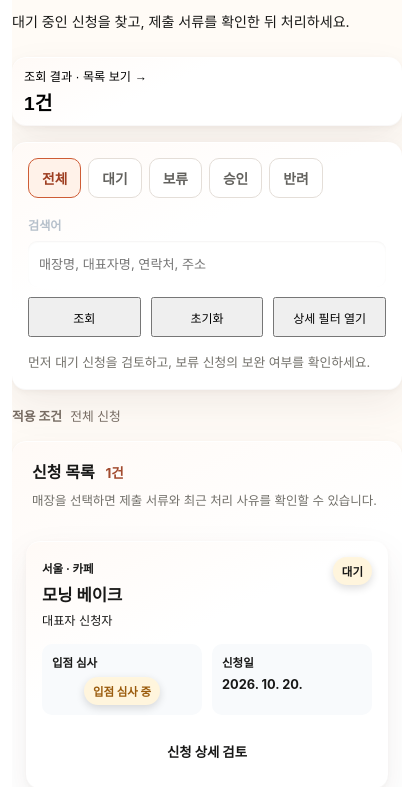
ignores a stale filter failure while keeping the newest request loading
Click the button "보류": (175, 178) x1=149 y1=158 x2=202 y2=198
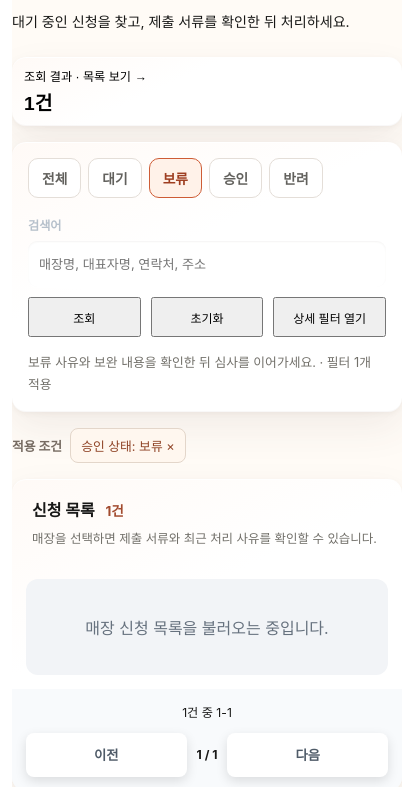
Click the button "승인": (236, 178) x1=209 y1=158 x2=262 y2=198
(page scrolled)
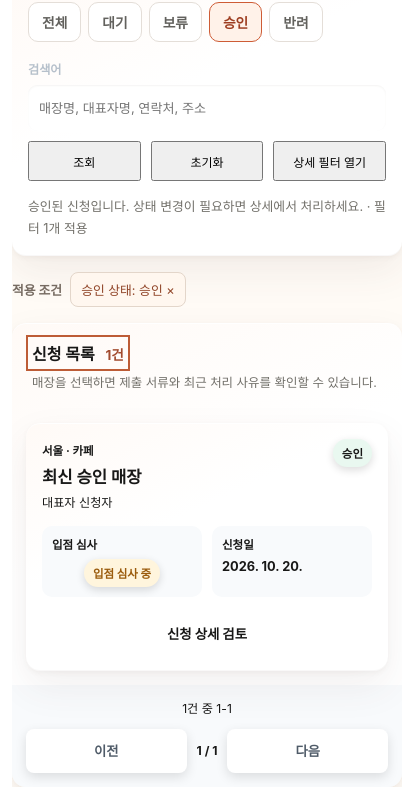
Expected: the button "다음" is disabled, x1=228 y1=729 x2=388 y2=773
Expected: the button with aria-label "최신 승인 매장 신청 상세 검토" is shown, x1=42 y1=611 x2=372 y2=655
